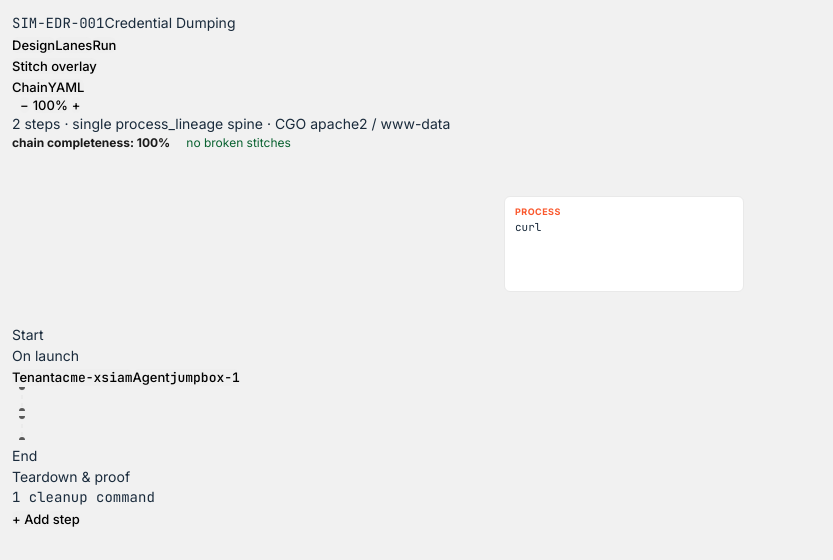
ComposerCanvas — Design-lens zoom toolbar is real, not inert (Important 1) › leaves the Run lens's zoom toolbar on the pre-existing state-backed control
The image size is (833, 560).
Expected: the button named "Reset zoom" reads "100%", [33,97,68,113]
Click the button named "Zoom in": (76, 105) [72,97,80,113]
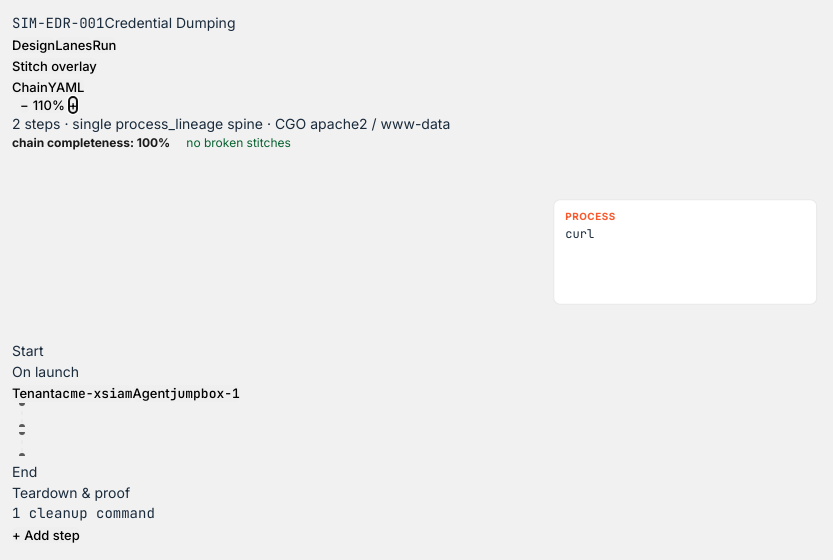
Expected: the button named "Reset zoom" reads "110%", [33,97,65,113]
